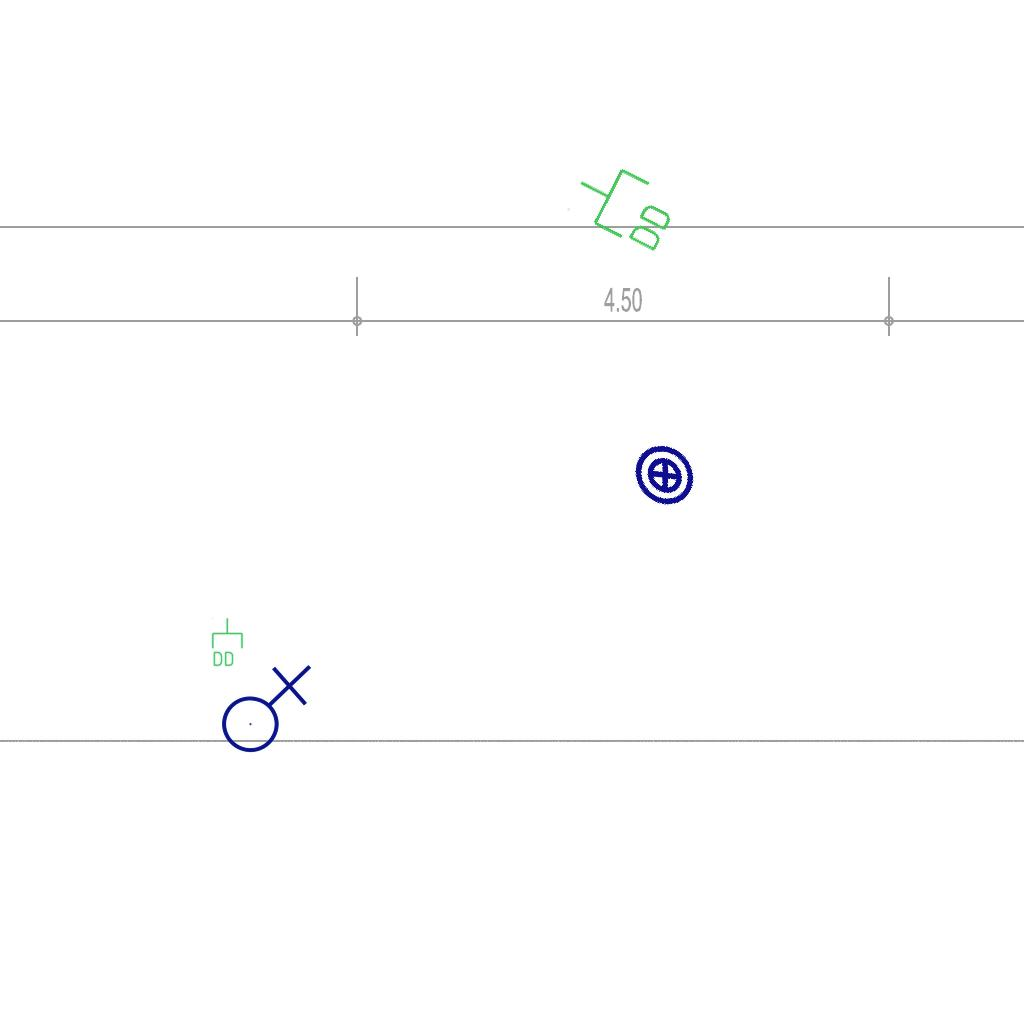Datenanschluss_zweifach: (562, 151, 687, 260), (210, 617, 244, 668)
Elektroanschluss_allgemein_230V_Geraeteanschlussdose_230V: (213, 660, 312, 754)
Taster_beleuchtet: (618, 428, 712, 522)
